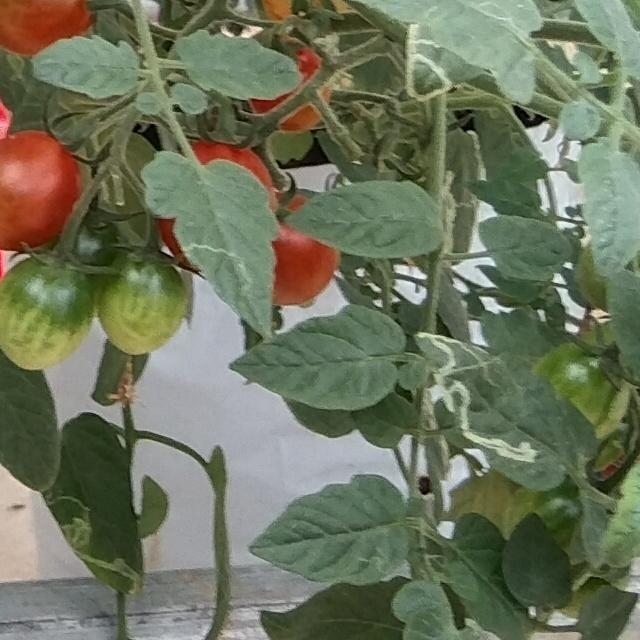Healthy: (226, 304, 405, 411), (285, 177, 444, 262), (174, 29, 305, 102), (578, 142, 640, 280), (29, 33, 143, 102), (476, 213, 574, 285)
Leaf_Miner: (409, 328, 601, 496), (140, 149, 282, 340), (43, 411, 145, 598), (248, 472, 407, 585), (399, 11, 484, 105)
